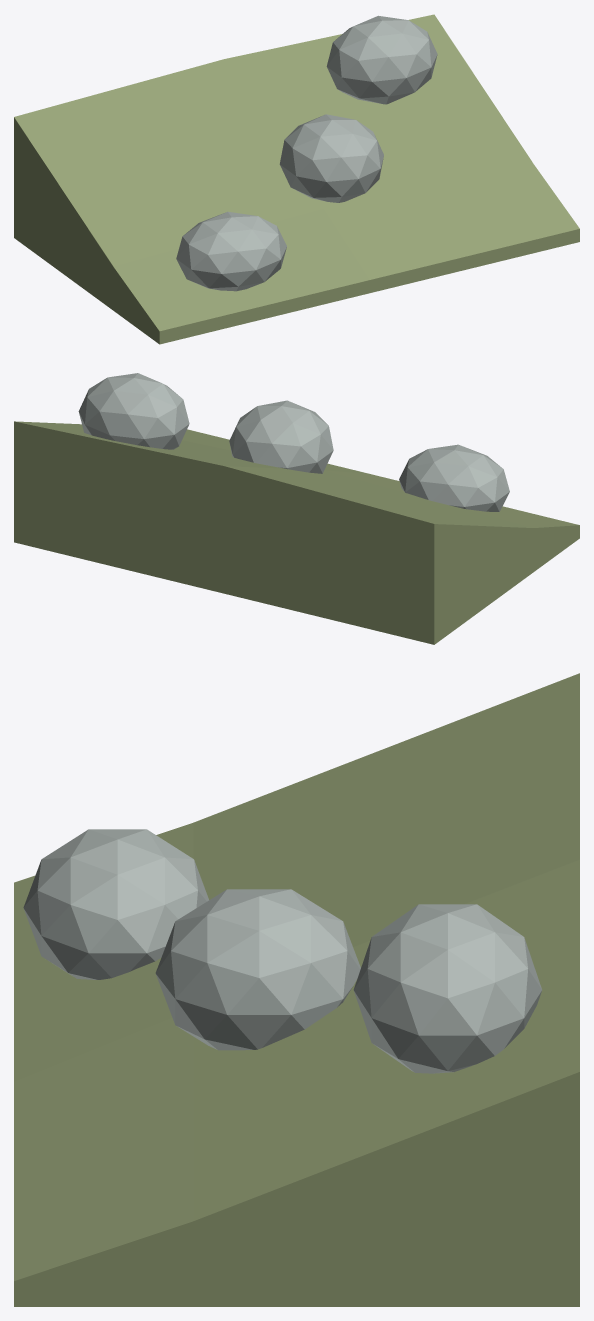
3 views of the same model, one above another, from view 1: azimuth 30°, elevation 25°; view 2: azimuth 150°, elevation 25°; view 3: azimuth 270°, elevation 25° (orthographic). The views are drawn at different scales.
Parts seen in each view (by area): view 1: nature-stream-bank-01; view 2: nature-stream-bank-01; view 3: nature-stream-bank-01.
Boxes of the visible parts, x1,y1,x2,y2 form: nature-stream-bank-01: (14,14,579,344); nature-stream-bank-01: (14,373,579,644); nature-stream-bank-01: (14,673,579,1306).
Size of the model in its own units: 2 by 0.73 by 1.2.
